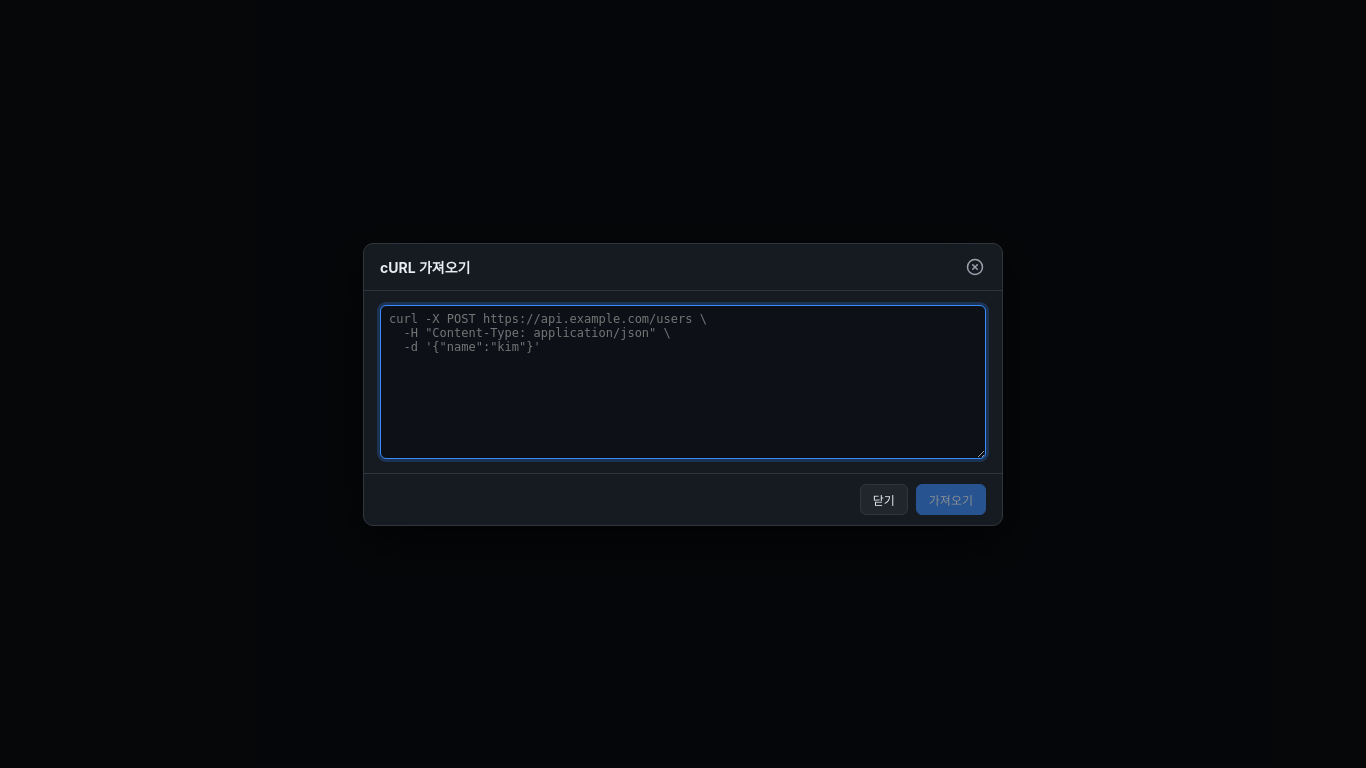
CurlImportModal › 파싱 실패 시 에러 박스를 표시하고 닫지 않는다
The image size is (1366, 768).
Replace the text in the text box with "not a curl command" at x=683, y=382, box [380,304,986,458]
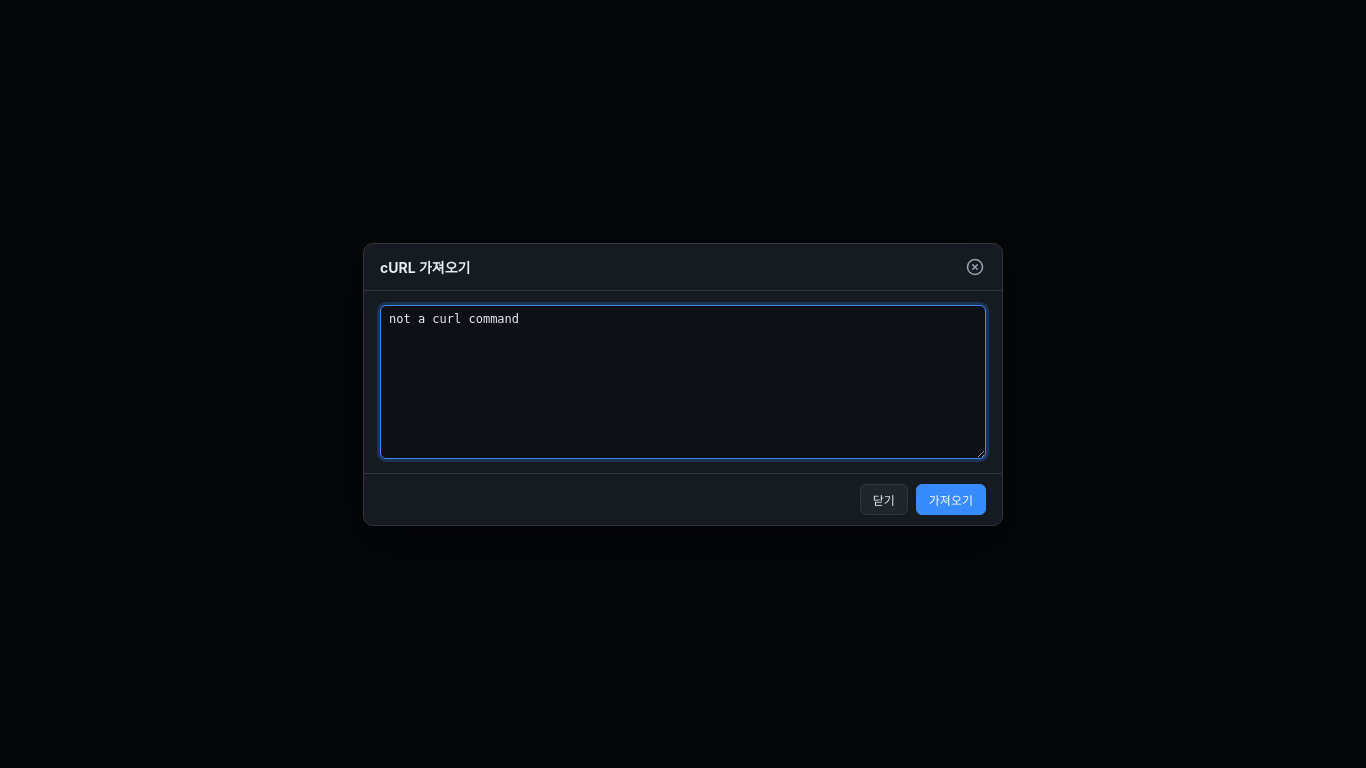
Click the button "가져오기".
click(951, 499)  # box [916,484,986,514]
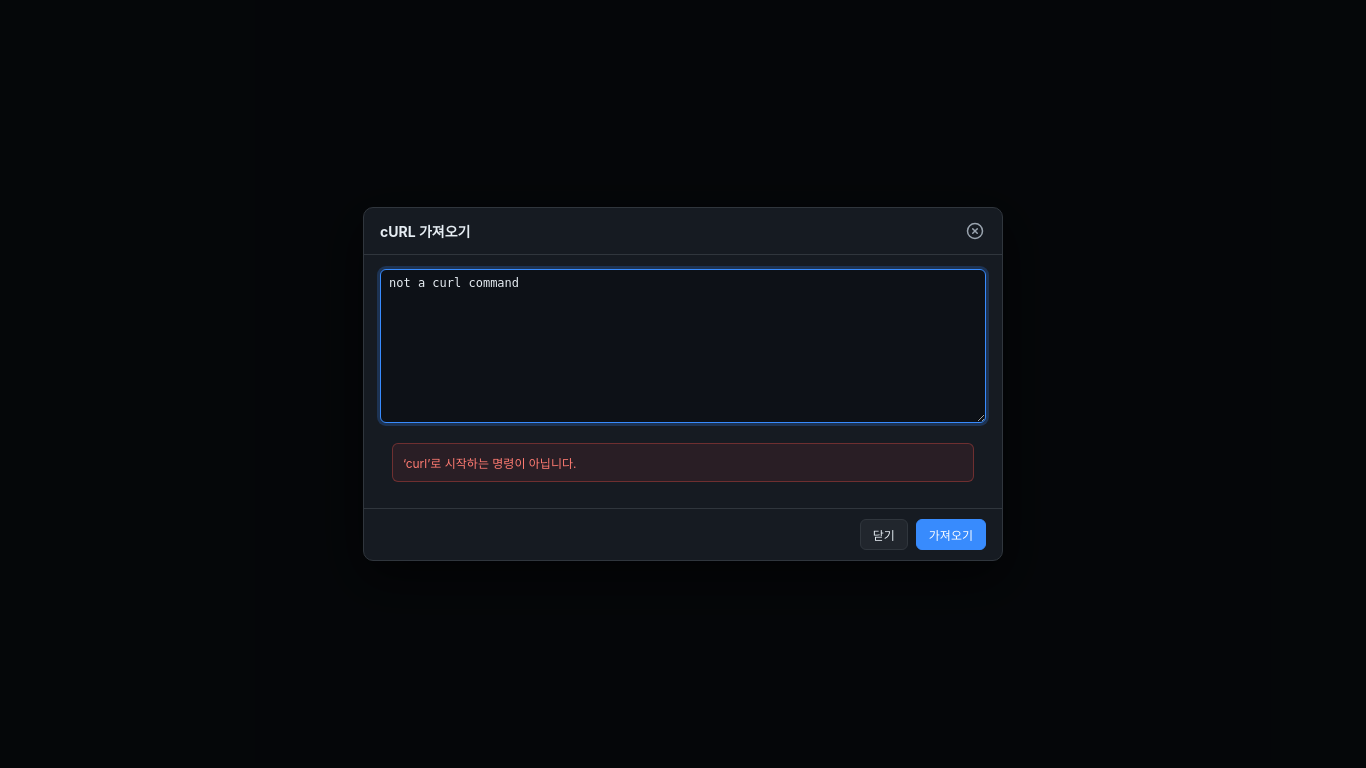
Expected: the text "‘curl’로 시작하는 명령이 아닙니다." is shown, [392,443,974,482]
